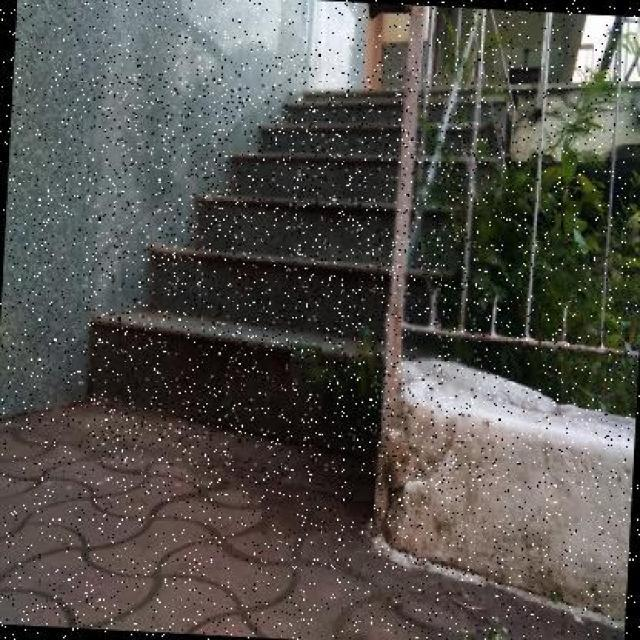Stairs: (82, 49, 516, 467)
